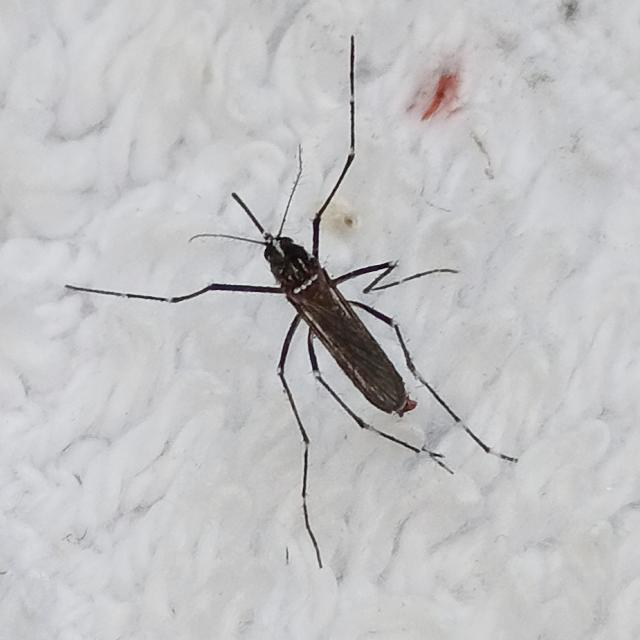albopictus: (74, 47, 530, 576)
